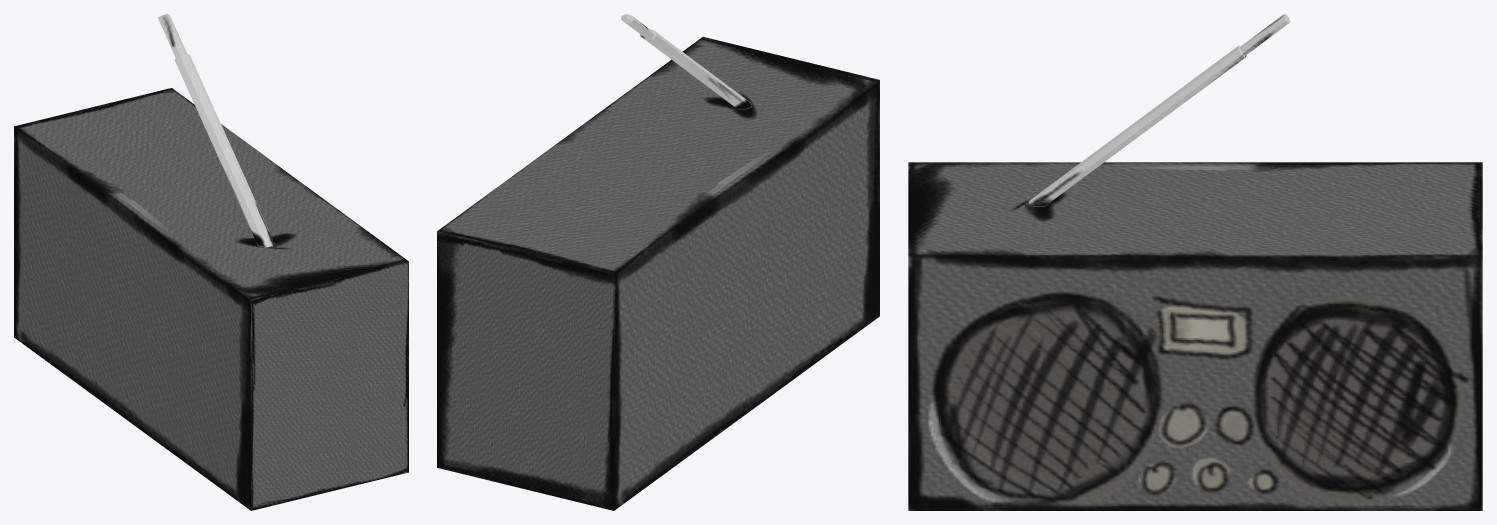
File: detail_radio.glb
3 renders of one model, left to right at view 1: azimuth 30°, elevation 25°; view 2: azimuth 150°, elevation 25°; view 3: azimuth 270°, elevation 25°, orthographic. The views are drawn at different scales.
Parts seen in each view (by area): view 1: Radio; view 2: Radio; view 3: Radio.
Boxes of the visible parts, left/top/right/bottom form: Radio: left=14, top=14, right=408, bottom=510; Radio: left=437, top=14, right=879, bottom=510; Radio: left=908, top=14, right=1482, bottom=510.
Bounding box in the file's own units: 0.0119 × 0.0265 × 0.0311.
1 material, 1 textured.
